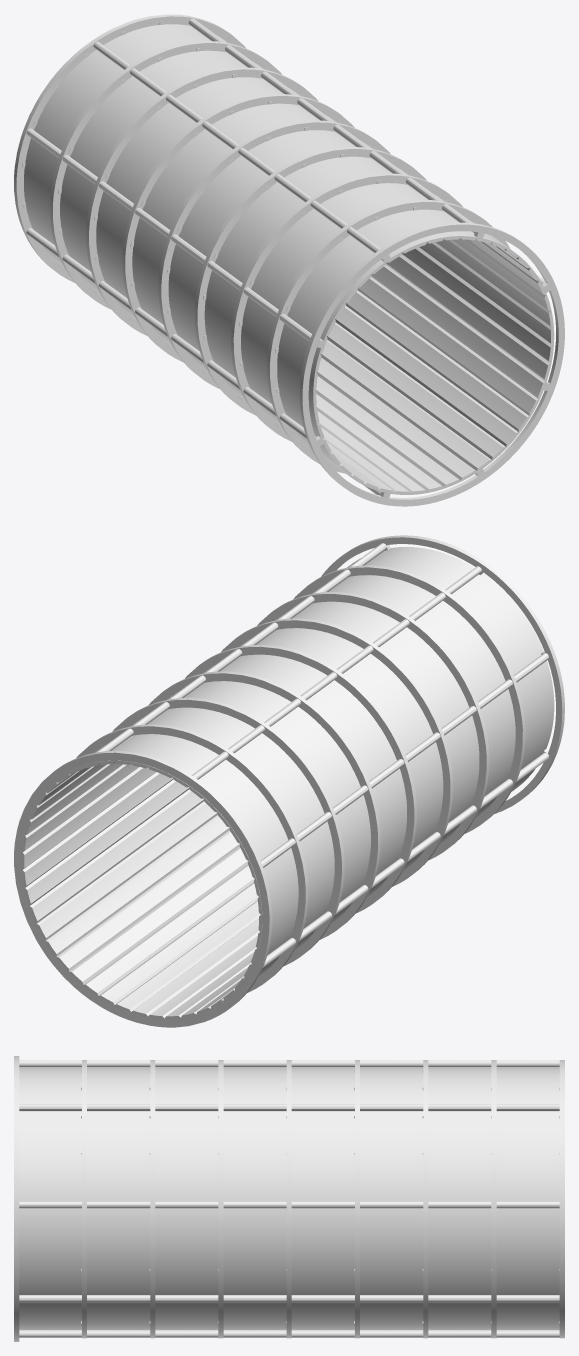
The model's file is solenoid_only_5.fbx.
The picture shows the model from 3 angles, top to bottom: view 1: azimuth 30°, elevation 25°; view 2: azimuth 150°, elevation 25°; view 3: azimuth 270°, elevation 25°; orthographic projection. The views are drawn at different scales.
Parts seen in each view (by area): view 1: solenoid outer ring; view 2: solenoid outer ring; view 3: solenoid outer ring.
Boxes of the visible parts, x1,y1,x2,y2 form: solenoid outer ring: (14,14,564,506); solenoid outer ring: (14,535,564,1027); solenoid outer ring: (14,1056,564,1341).
Size of the model in its own units: 530 by 275 by 275.
Materials: 1 (1 with a texture image).
